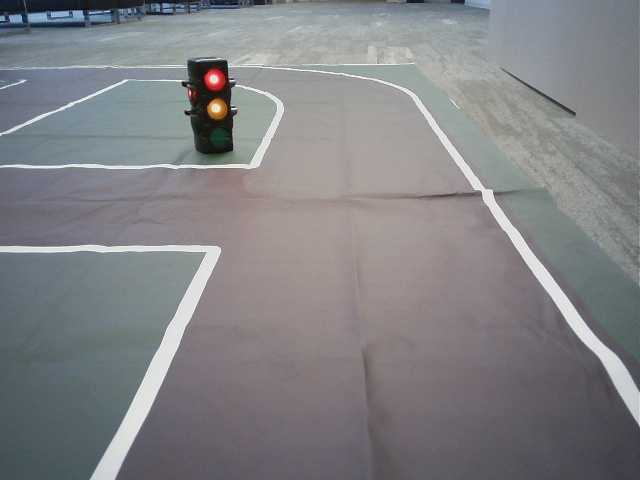red: (200, 61, 231, 151)
